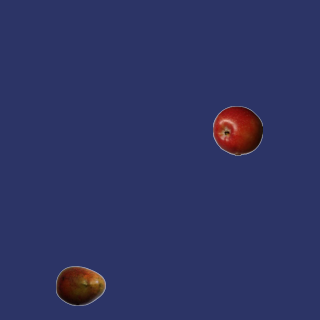Apple Braeburn: (212, 105, 262, 155)
Mango Red: (55, 260, 105, 310)
